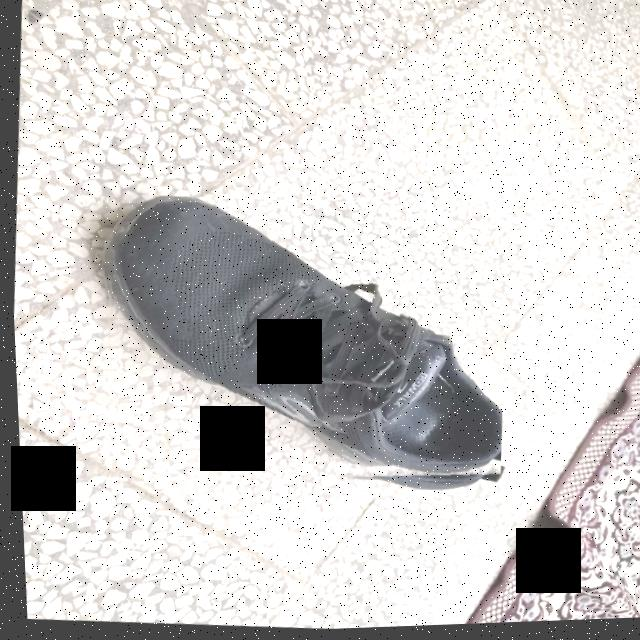shoe: (84, 183, 515, 509)
